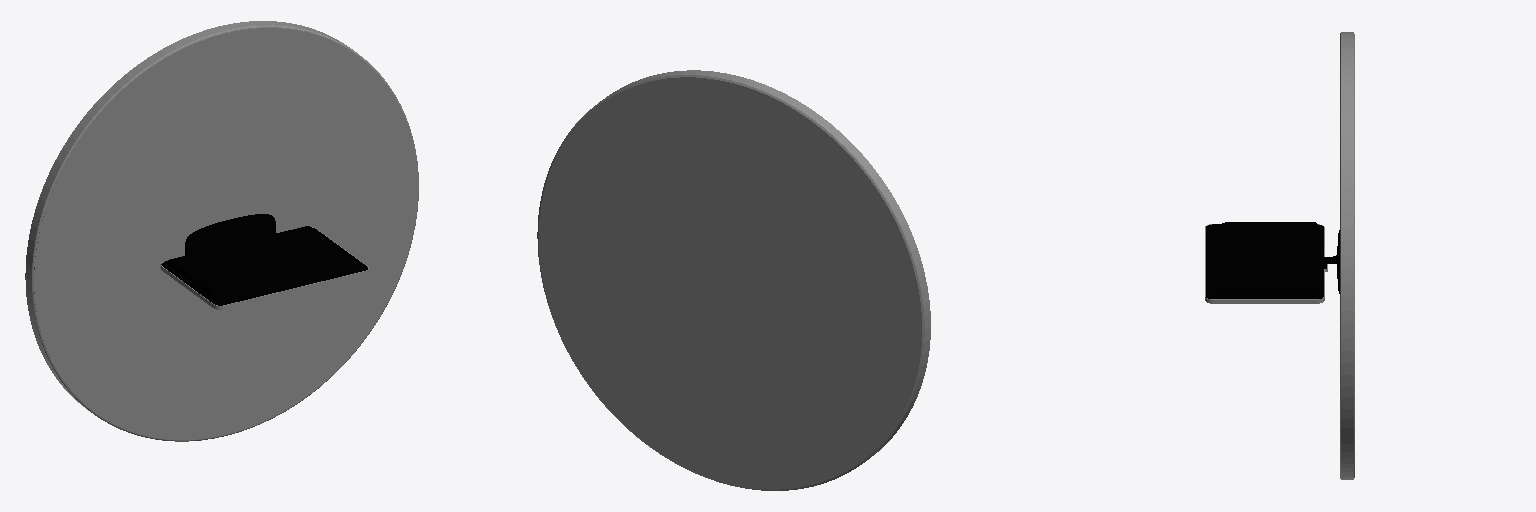
File: main.obj
3 views of the same model, side by side, from view 1: azimuth 30°, elevation 25°; view 2: azimuth 150°, elevation 25°; view 3: azimuth 270°, elevation 25° (orthographic).
Parts seen in each view (by area): view 1: Cylinder01, Rectangle02; view 2: Cylinder01; view 3: Rectangle02, Cylinder01.
Boxes of the visible parts, x1,y1,x2,y2 form: Cylinder01: [25, 21, 418, 441]; Rectangle02: [160, 214, 368, 309]; Cylinder01: [537, 70, 930, 490]; Rectangle02: [1205, 222, 1339, 303]; Cylinder01: [1340, 32, 1354, 479].
Bounding box in the file's own units: 3028 × 3028 × 1015.